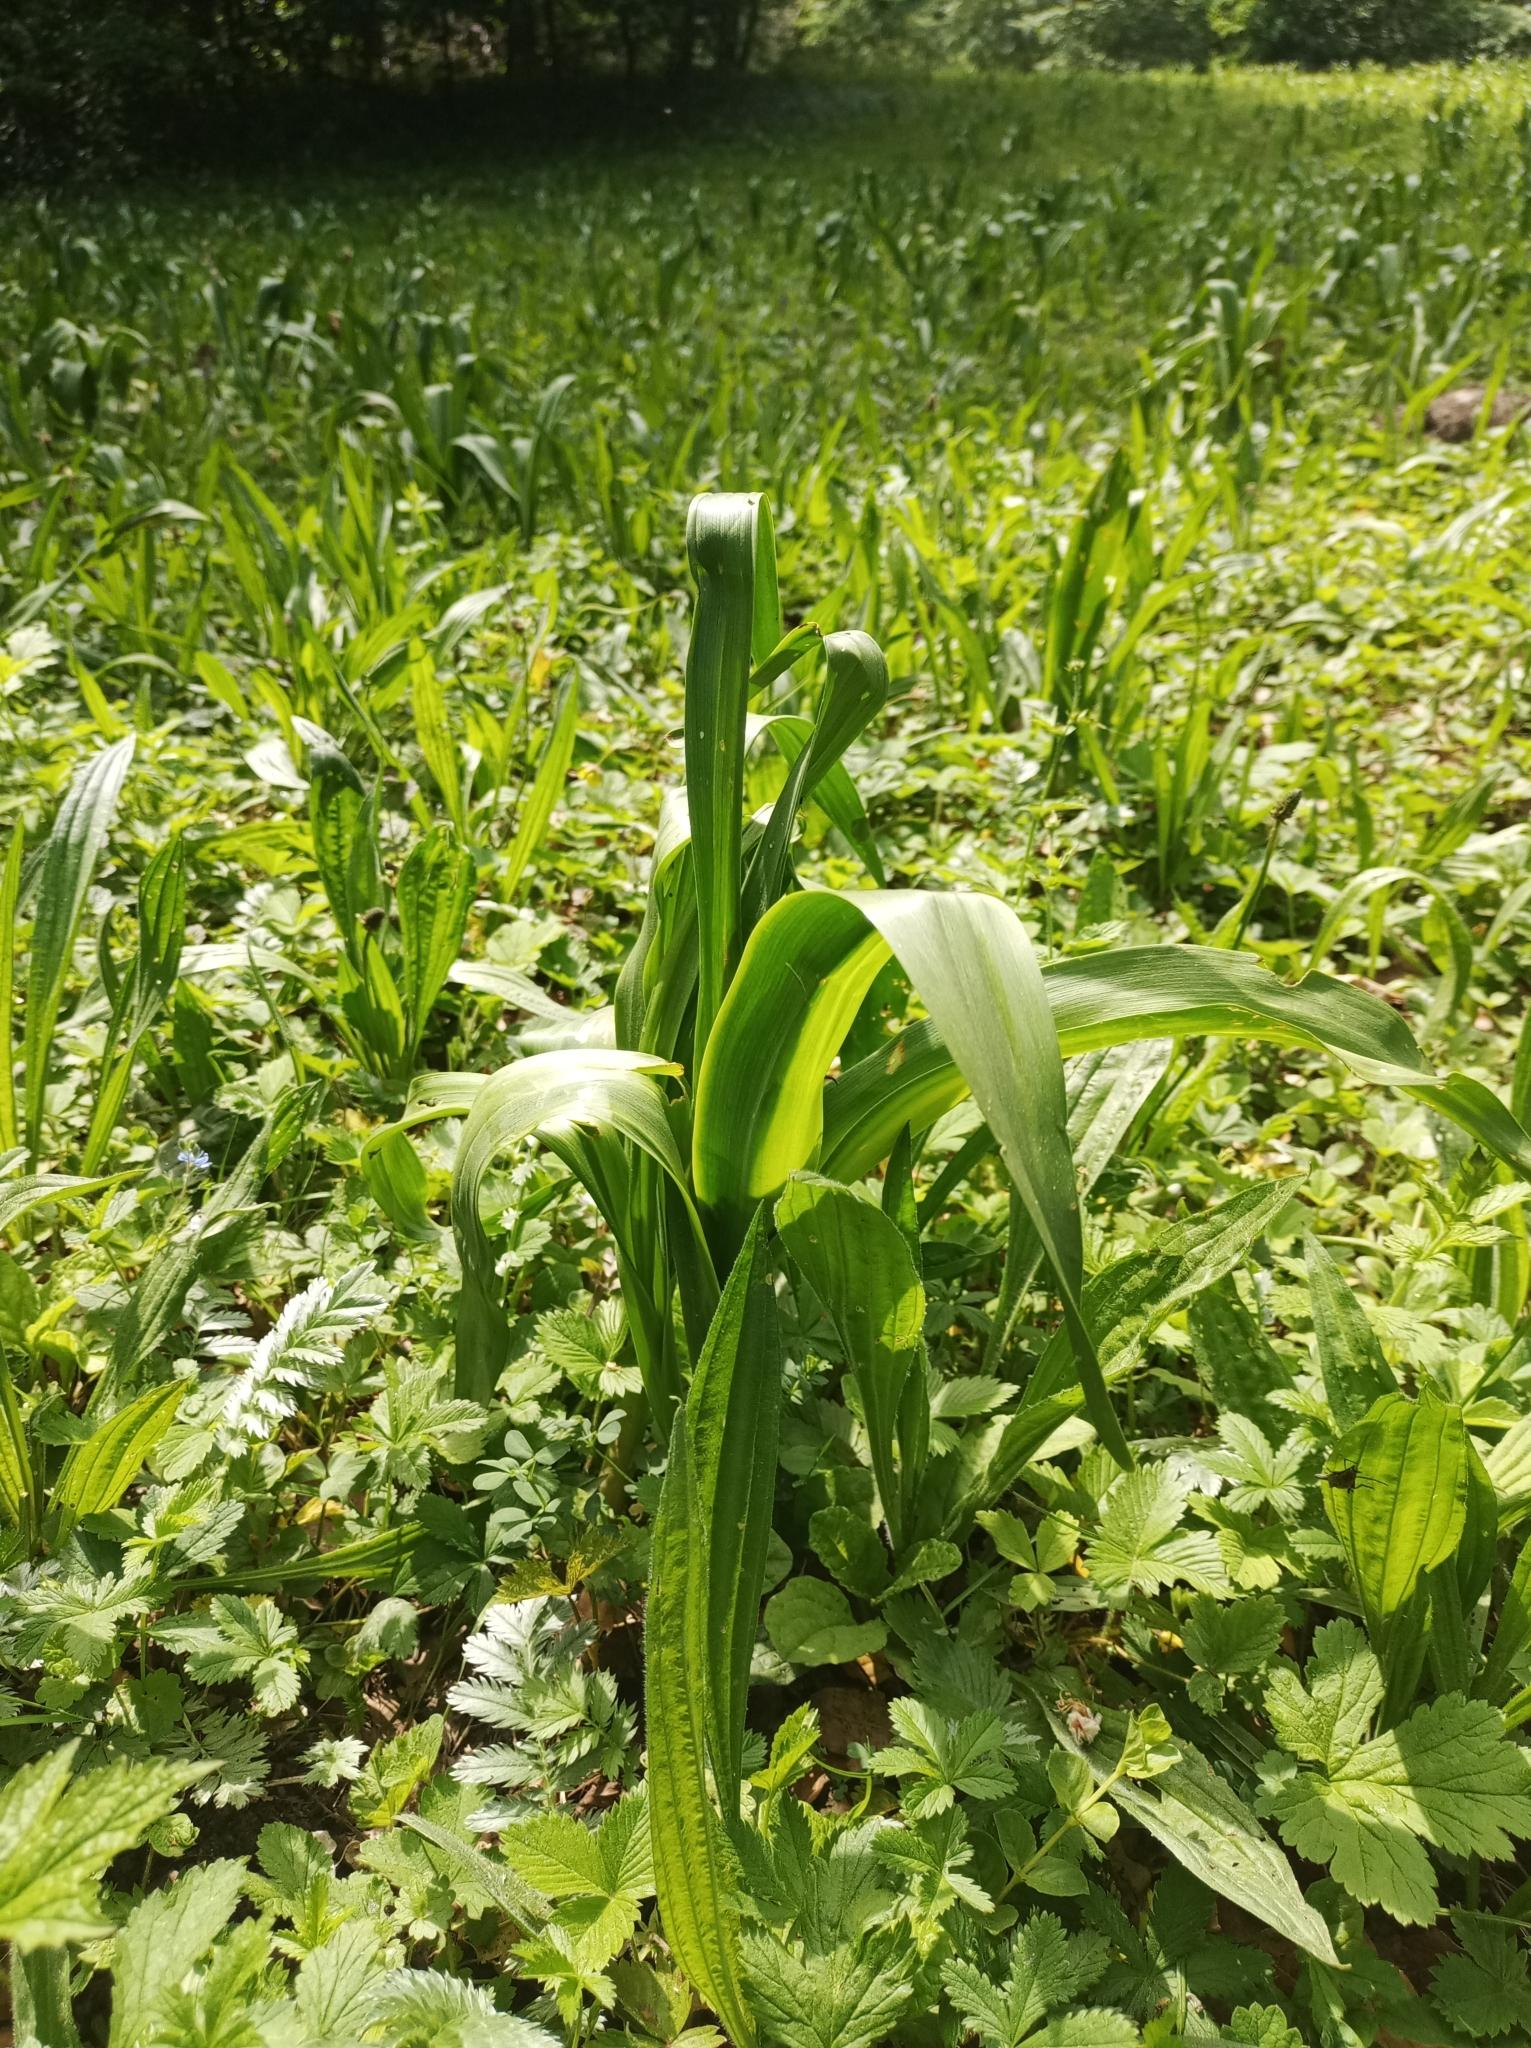Colchicum autumnale L: (402, 473, 1454, 1632)
